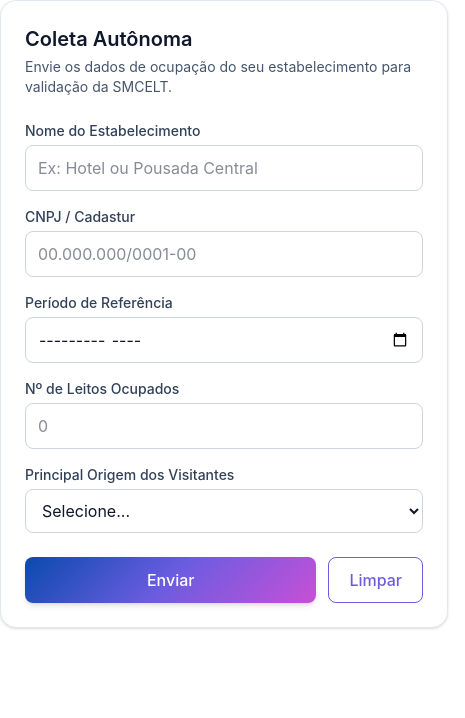
Test case: ColetaAutonomaForm › deve exibir erros de validação ao submeter formulário vazio
This screenshot has width=465, height=718.
What coordinates should you click on to do the following:
click the button "Enviar"
I would click on:
 (171, 580)
Its box is [25,557,316,603].
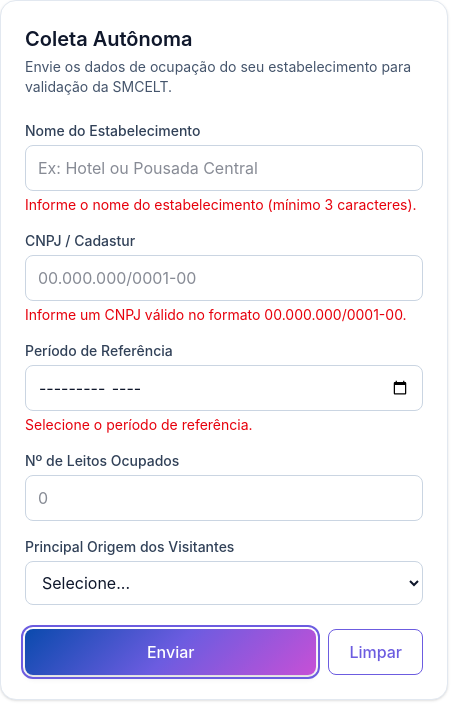
Expected: the text "Informe o nome do estabelecimento (mínimo 3 caracteres)." is shown, [25,195,423,215]
Expected: the text "Informe um CNPJ válido no formato 00.000.000/0001-00." is shown, [25,305,423,325]
Expected: the text "Selecione o período de referência." is shown, [25,416,253,433]
